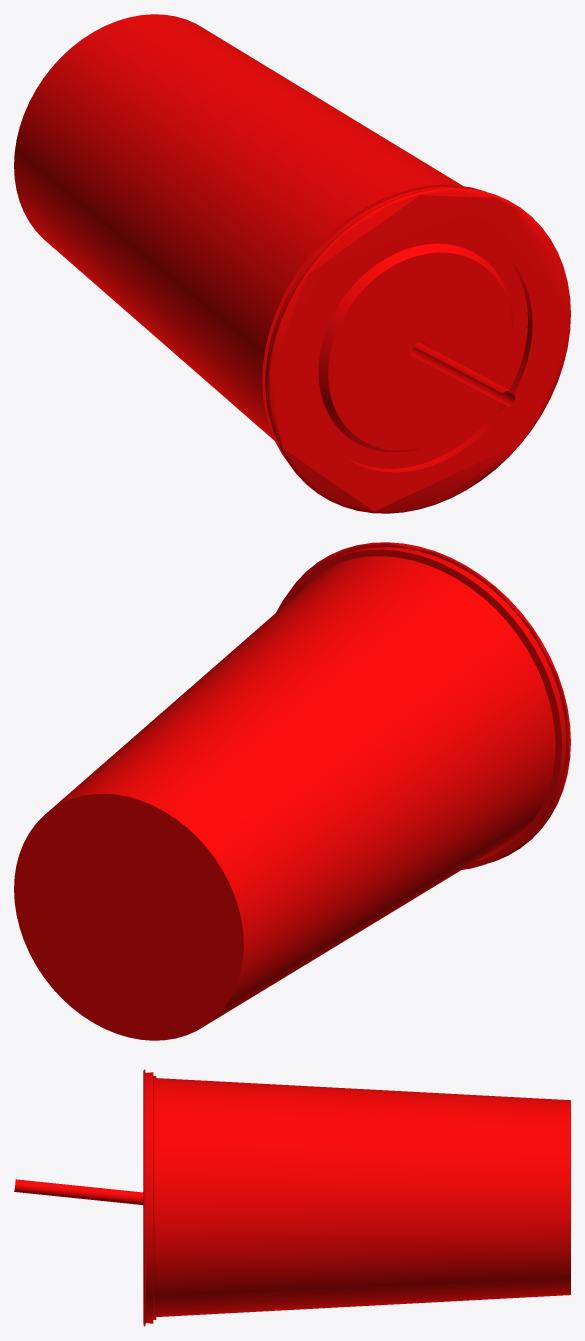
The picture shows the model from 3 angles, top to bottom: view 1: azimuth 30°, elevation 25°; view 2: azimuth 150°, elevation 25°; view 3: azimuth 270°, elevation 25°; orthographic projection. The views are drawn at different scales.
Parts seen in each view (by area): view 1: Cup_aiStandardSurface3_0; view 2: Cup_aiStandardSurface3_0; view 3: Cup_aiStandardSurface3_0.
Part boxes in pixels (box(x1,y1,x2,y2)): Cup_aiStandardSurface3_0: box(14, 14, 570, 513); Cup_aiStandardSurface3_0: box(14, 542, 570, 1040); Cup_aiStandardSurface3_0: box(14, 1069, 570, 1326).
Size of the model in its own units: 0.0248 by 0.0248 by 0.0537.
